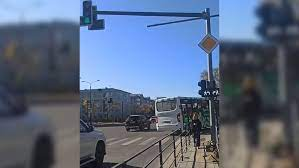tl: (79, 1, 94, 26)
